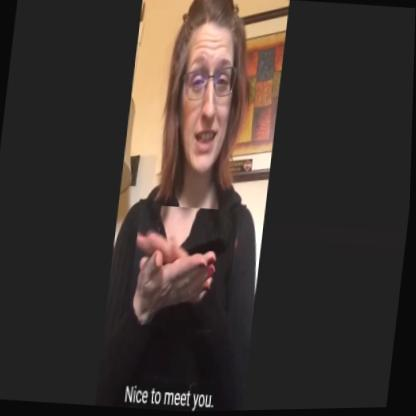NiceToMeetYou: (129, 204, 241, 334)
